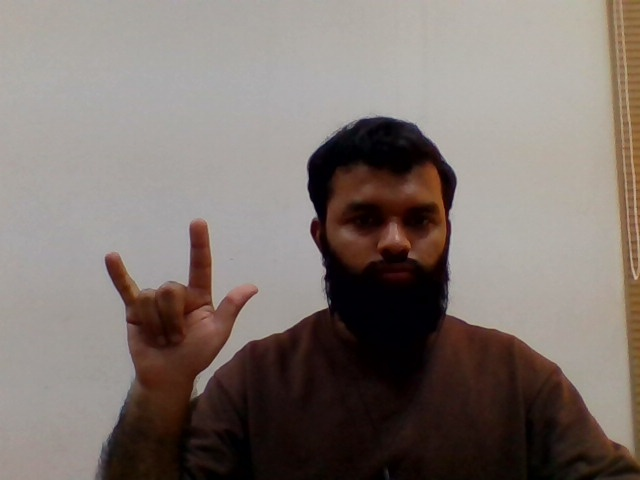I Love you: (99, 212, 267, 402)
